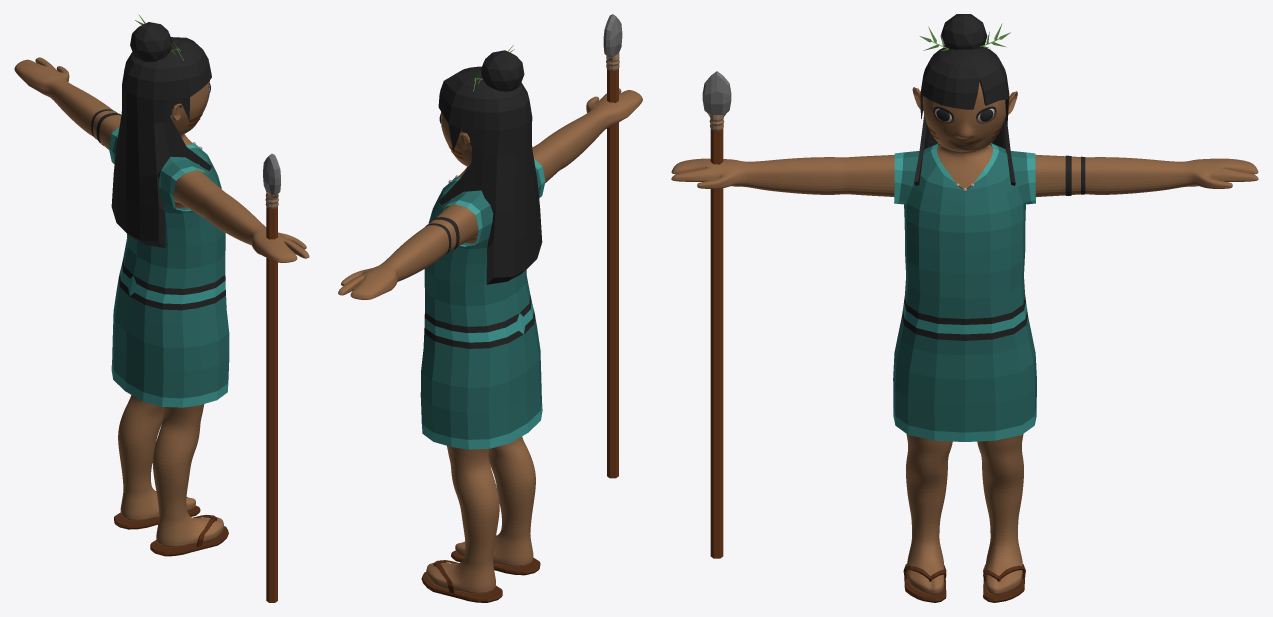
File: MeninaAzul.fbx
The picture shows the model from 3 angles, left to right: view 1: azimuth 30°, elevation 25°; view 2: azimuth 150°, elevation 25°; view 3: azimuth 270°, elevation 25°; orthographic projection. The views are drawn at different scales.
Parts seen in each view (by area): view 1: Corpo.002, Corpo, Icosphere, Lanca, Chinelos; view 2: Corpo.002, Corpo, Icosphere, Lanca, Chinelos; view 3: Corpo.002, Corpo, Lanca, Icosphere, Chinelos.
Boxes of the visible parts, bbox=[...] form: Corpo.002: bbox=[109, 126, 229, 407]; Corpo: bbox=[14, 57, 309, 547]; Icosphere: bbox=[111, 22, 211, 247]; Lanca: bbox=[263, 153, 280, 602]; Chinelos: bbox=[114, 491, 228, 556]; Corpo.002: bbox=[420, 159, 545, 449]; Corpo: bbox=[338, 88, 642, 594]; Icosphere: bbox=[438, 50, 542, 284]; Lanca: bbox=[603, 14, 622, 478]; Chinelos: bbox=[421, 535, 540, 602]; Corpo.002: bbox=[893, 143, 1036, 441]; Corpo: bbox=[671, 82, 1258, 595]; Lanca: bbox=[702, 71, 731, 558]; Icosphere: bbox=[914, 14, 1015, 185]; Chinelos: bbox=[903, 563, 1025, 602].
Bounding box in the file's own units: 187 × 1004 × 962.
